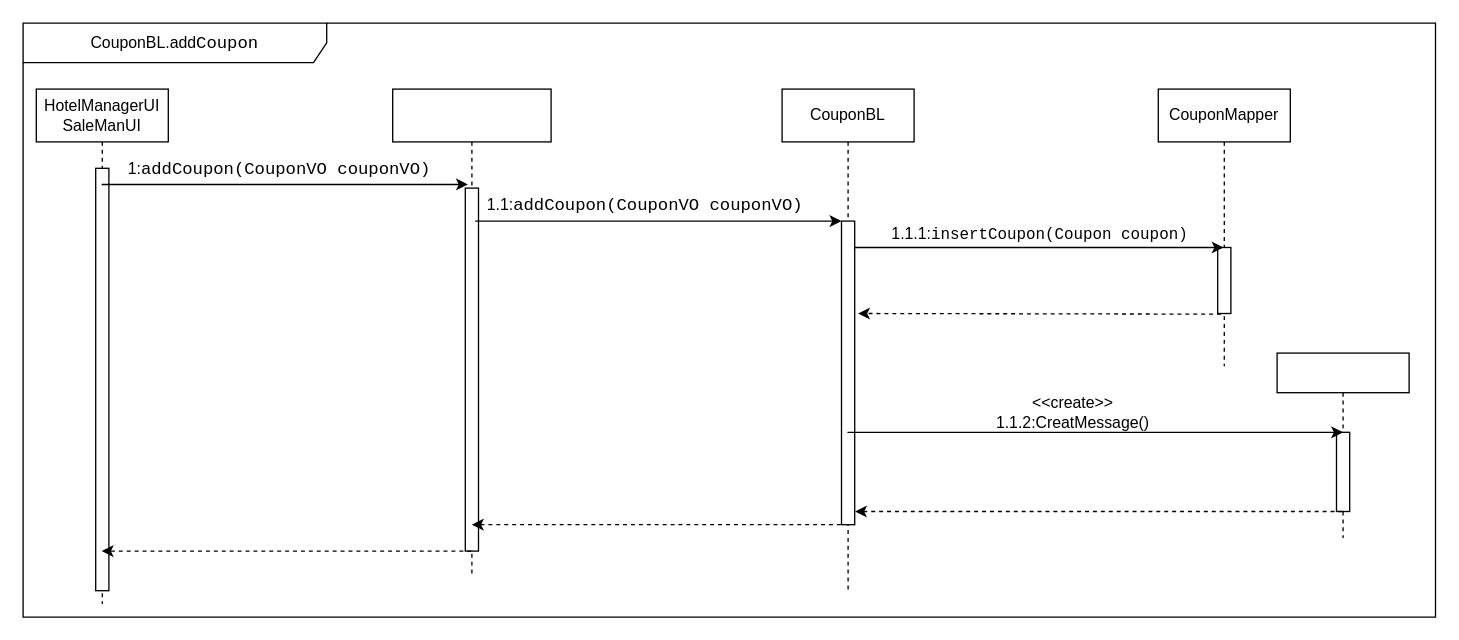
The diagram is 1459 pixels wide and 640 high, and some of its shapes have lost their labels. Here are the shapes that lost their labels. From the top down, the box of each, then its label:
(391, 88, 551, 578): CouponController
(1276, 352, 1409, 538): ResponseVO
